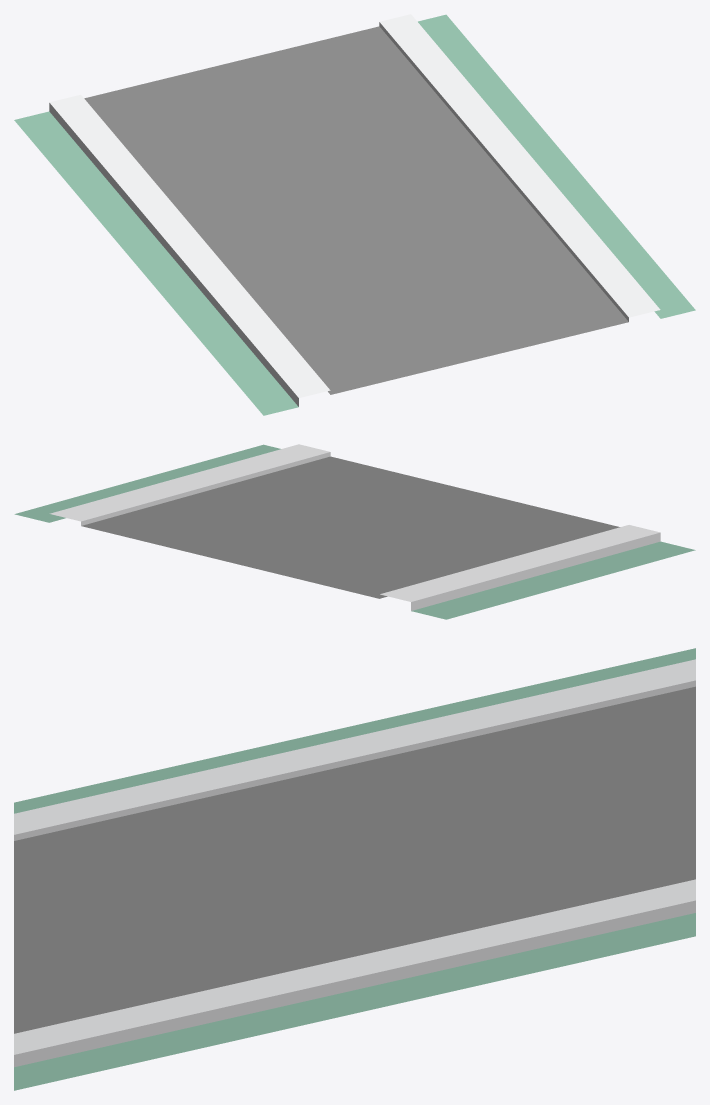
The model's file is roadRamp.glb.
The picture shows the model from 3 angles, top to bottom: view 1: azimuth 30°, elevation 25°; view 2: azimuth 150°, elevation 25°; view 3: azimuth 270°, elevation 25°; orthographic projection. The views are drawn at different scales.
Visible parts, largest first — view 1: roadRamp(Clone); view 2: roadRamp(Clone); view 3: roadRamp(Clone).
Part boxes in pixels (x1=…): roadRamp(Clone): x1=14, y1=14, x2=695, y2=415; roadRamp(Clone): x1=14, y1=444, x2=695, y2=619; roadRamp(Clone): x1=14, y1=648, x2=695, y2=1090.
Bounding box in the file's own units: 1 × 0.27 × 1.
